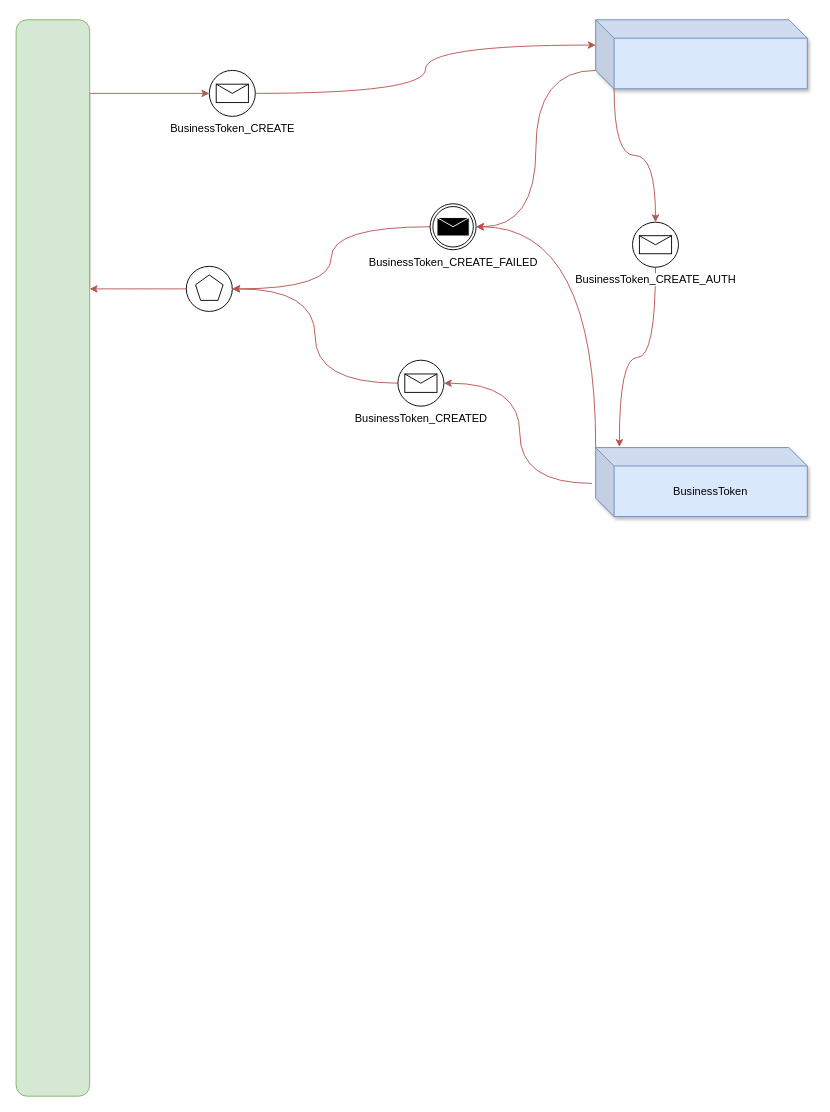
The diagram is 830 pixels wide and 1112 high, and some of its shapes have lost their labels. Each missing label, with the centre of its shape:
"BusinessAPI" belongs at pixel 52 557.
"UserAuth" belongs at pixel 702 55.
